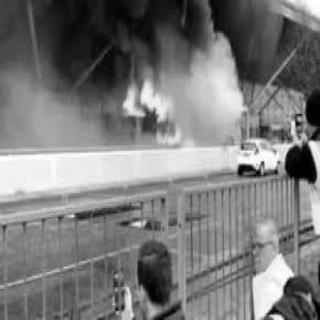Fire: (120, 68, 186, 146)
other: (248, 253, 294, 311)
